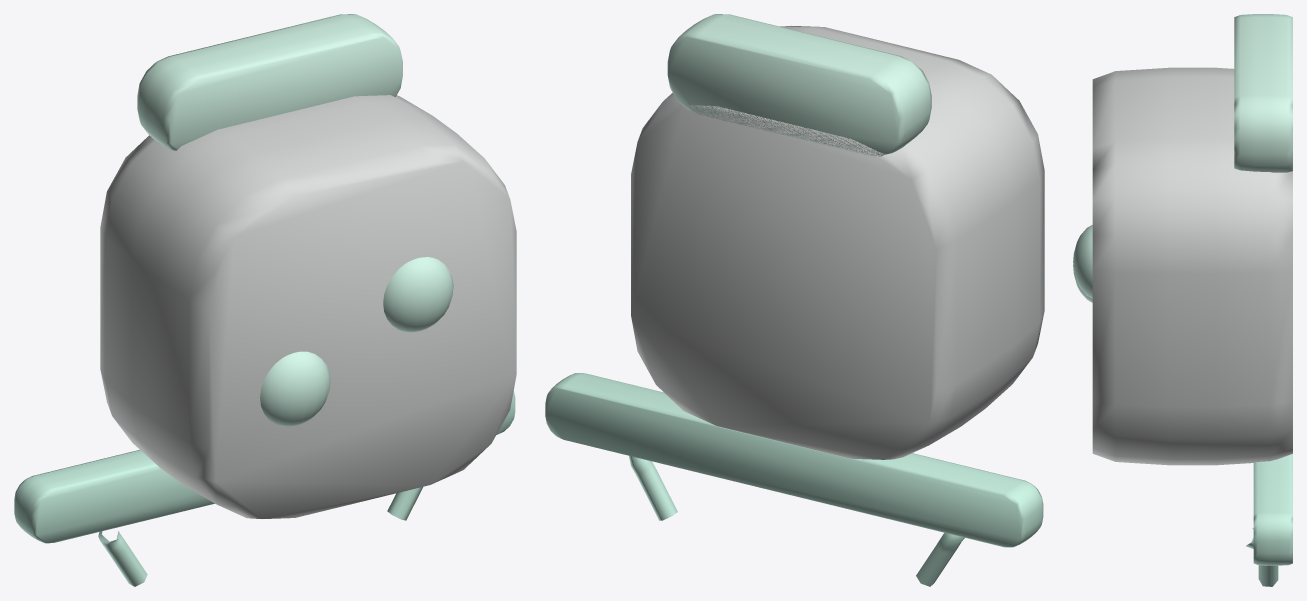
The model's file is decor_6_mint.glb.
3 views of the same model, side by side, from view 1: azimuth 30°, elevation 25°; view 2: azimuth 150°, elevation 25°; view 3: azimuth 270°, elevation 25° (orthographic). The views are drawn at different scales.
Visible parts, largest first — view 1: decor_6_mint; view 2: decor_6_mint; view 3: decor_6_mint.
Part boxes in pixels (x1=…): decor_6_mint: x1=14, y1=14, x2=516, y2=586; decor_6_mint: x1=545, y1=14, x2=1044, y2=586; decor_6_mint: x1=1073, y1=14, x2=1292, y2=586.
Size of the model in its own units: 7.86 by 7.92 by 3.36.
